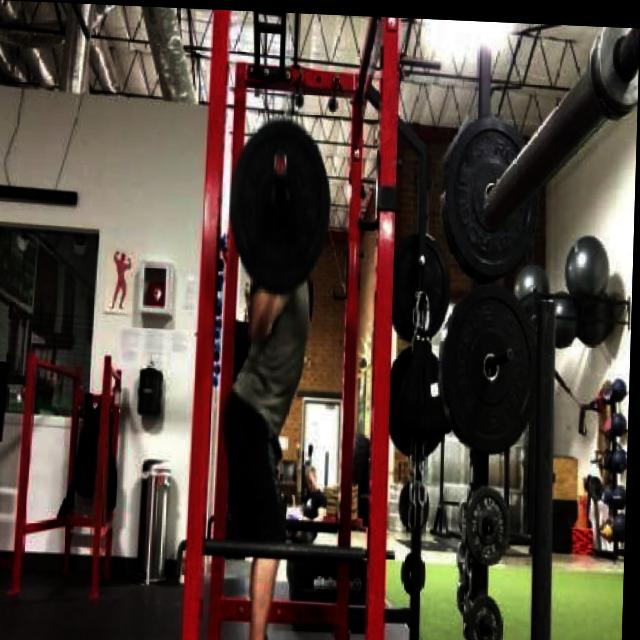barbell: (226, 118, 339, 297), (442, 281, 546, 453)
